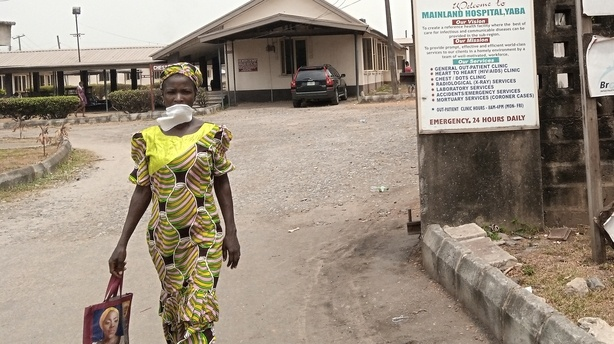with_incorrect_mask: (154, 66, 201, 131)
